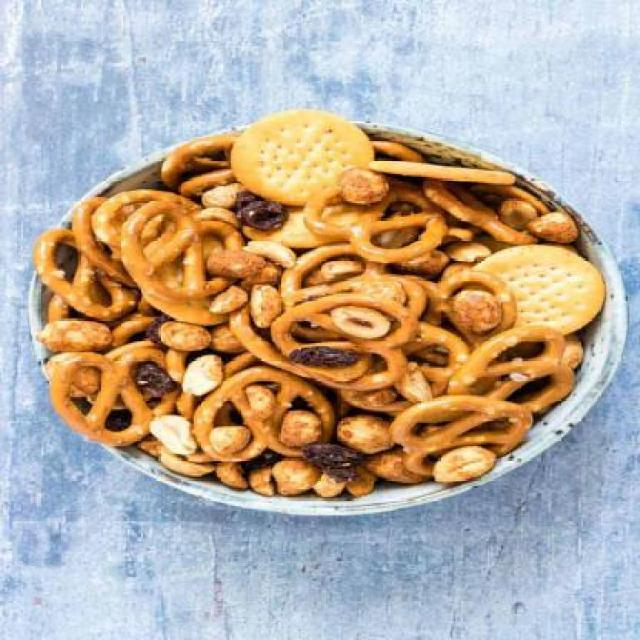Salatini packaged: (33, 106, 638, 508)
